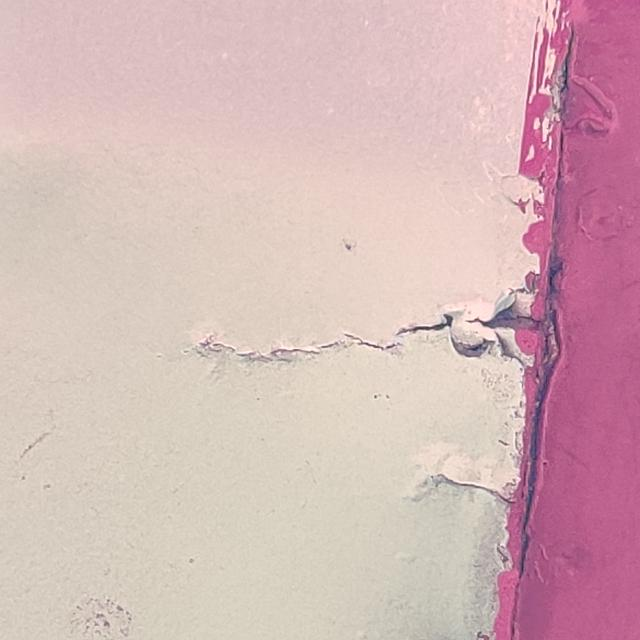crack: (175, 265, 567, 388), (421, 446, 534, 520)
